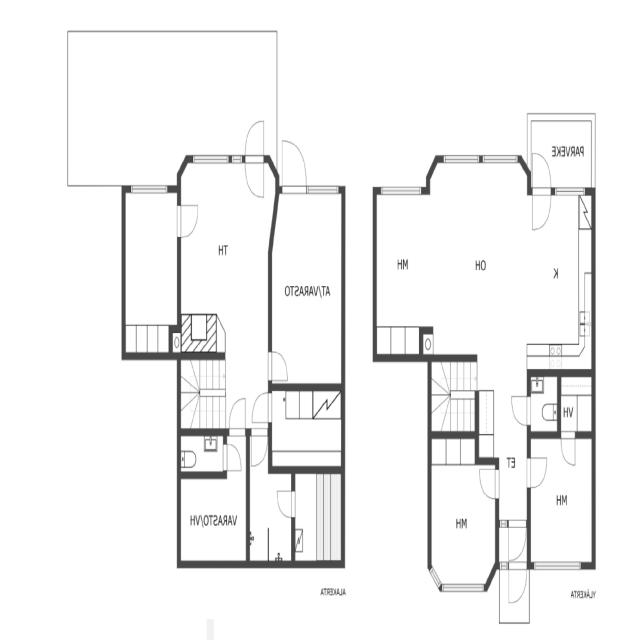door: (242, 115, 268, 204), (528, 150, 554, 236), (278, 134, 309, 195), (175, 198, 202, 245), (503, 520, 529, 564), (248, 426, 270, 473), (265, 346, 292, 384), (506, 564, 529, 608), (509, 389, 533, 431), (477, 462, 501, 503), (250, 387, 272, 428), (222, 438, 245, 477), (227, 394, 248, 436), (558, 432, 578, 472), (527, 452, 548, 490), (276, 486, 296, 522)
window: (444, 149, 520, 171), (188, 148, 240, 170), (378, 178, 425, 200), (126, 179, 170, 200), (304, 178, 342, 200), (441, 578, 487, 595), (534, 558, 582, 572), (554, 180, 587, 200)
zone: (429, 151, 593, 367), (178, 161, 272, 354), (270, 186, 345, 390), (429, 436, 497, 588), (123, 186, 180, 356), (376, 187, 428, 356), (530, 435, 594, 565), (177, 470, 248, 565), (271, 387, 344, 472), (293, 470, 345, 566), (560, 372, 595, 435), (178, 431, 225, 476), (529, 373, 560, 436)
